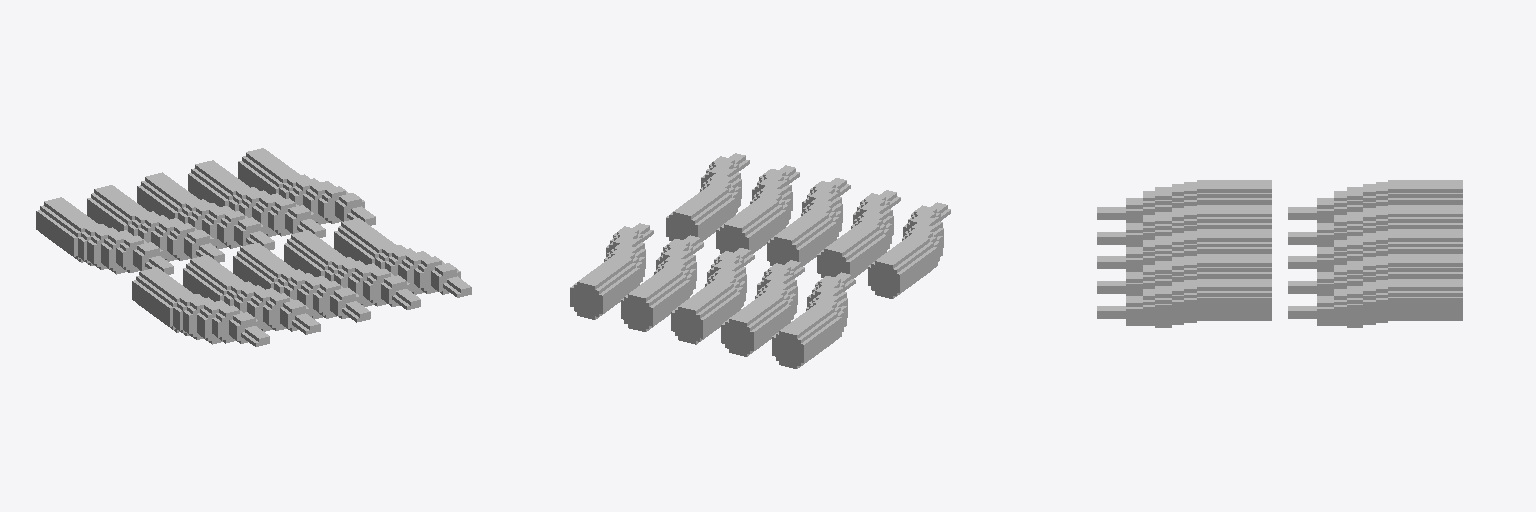
The model's file is Gambas.obj.
The picture shows the model from 3 angles: view 1: azimuth 30°, elevation 25°; view 2: azimuth 150°, elevation 25°; view 3: azimuth 270°, elevation 25°; orthographic projection.
Visible parts, largest first — view 1: object 1; view 2: object 1; view 3: object 1.
Part boxes in pixels (left/top/right/bottom): object 1: left=36, top=148, right=471, bottom=346; object 1: left=570, top=153, right=950, bottom=368; object 1: left=1097, top=180, right=1462, bottom=327.
Bounding box in the file's own units: 7.1 × 0.9 × 8.8.